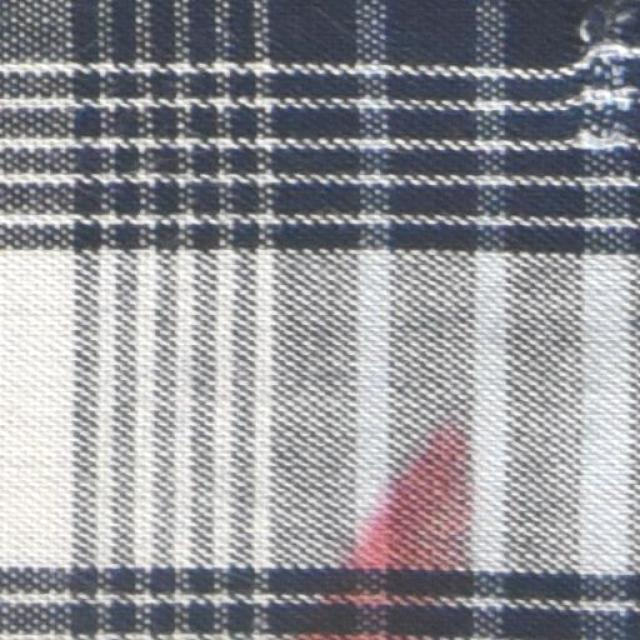Stain: (302, 441, 478, 640)
